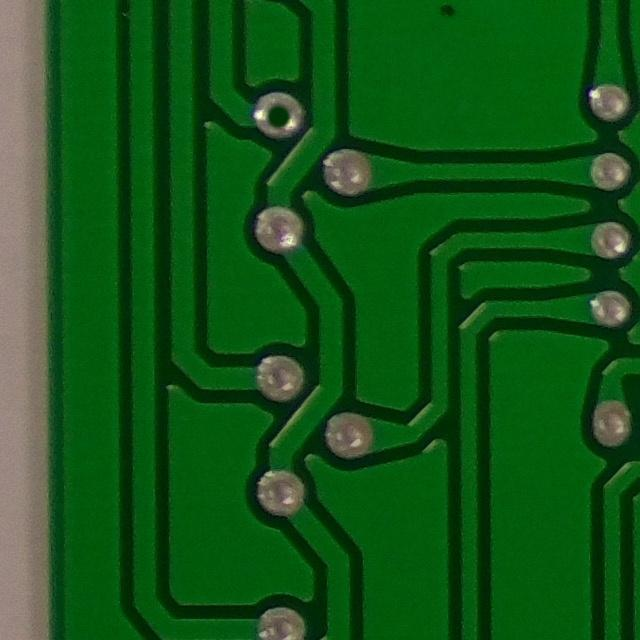missing_hole: (243, 84, 315, 142)
